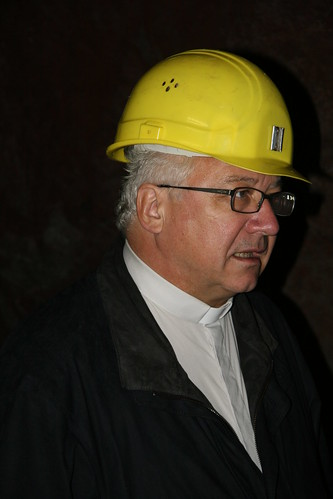person hardhat: (7, 51, 333, 499)
